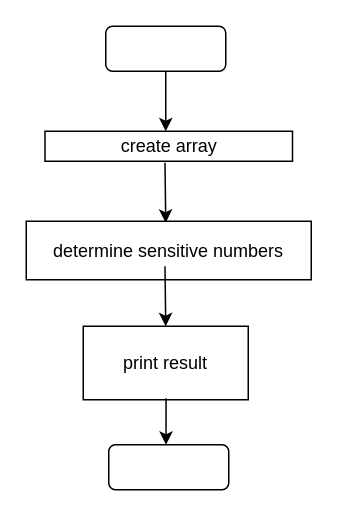
Some shapes in this 338 by 516 pixel diagram are drawn without their labels. Here are the shapes that lost their labels. From the top down, the box of each, then its label:
(104, 25, 226, 71): START
(107, 443, 229, 490): END
